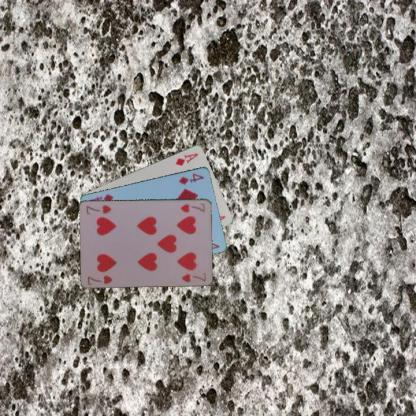4d: (176, 170, 205, 186)
7h: (178, 200, 206, 214), (85, 273, 114, 285)
Ad: (173, 150, 199, 167)
